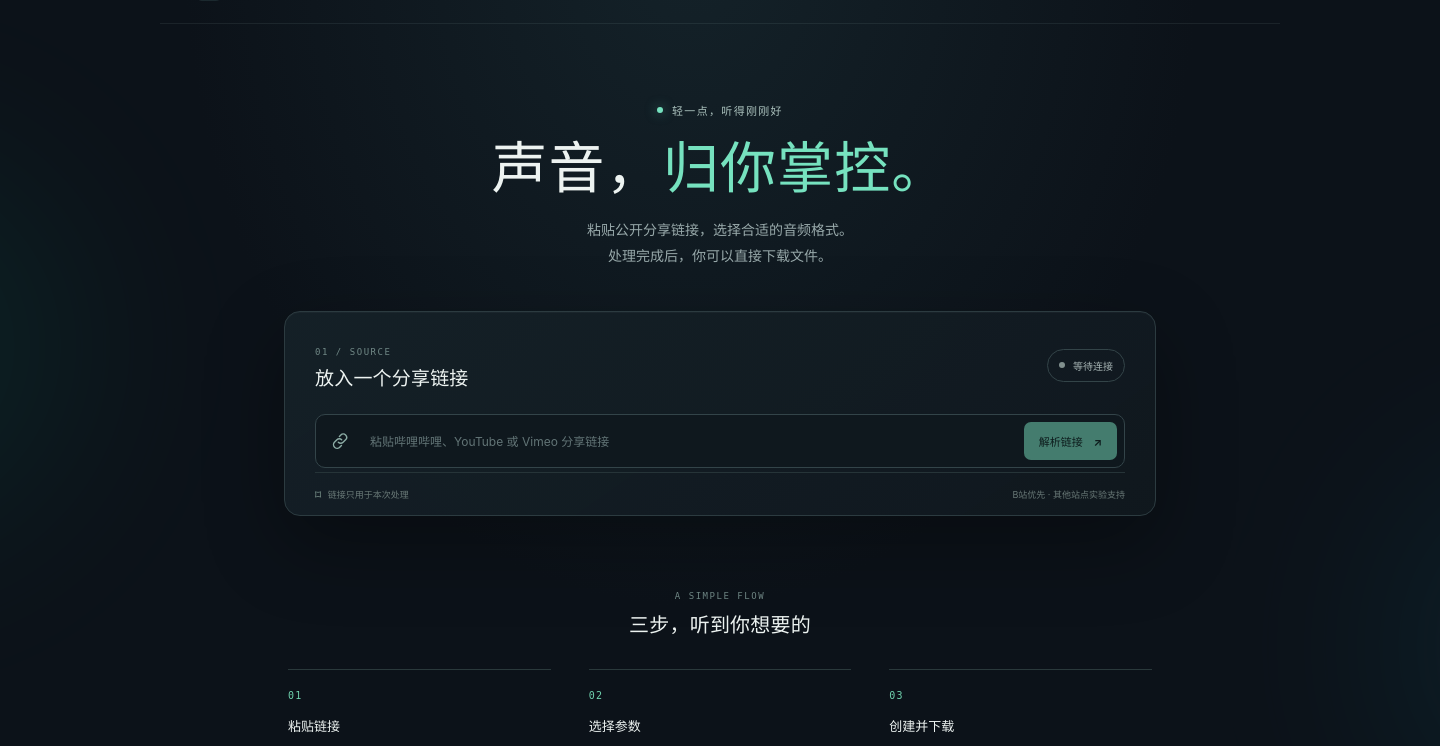
Scenario: AudioDock task flow › does not manufacture a percentage when the backend reports unknown progress
Type "https://youtu.be/abc" into the field named "分享链接或文字" at (690, 441), box [363,434,1018,449]
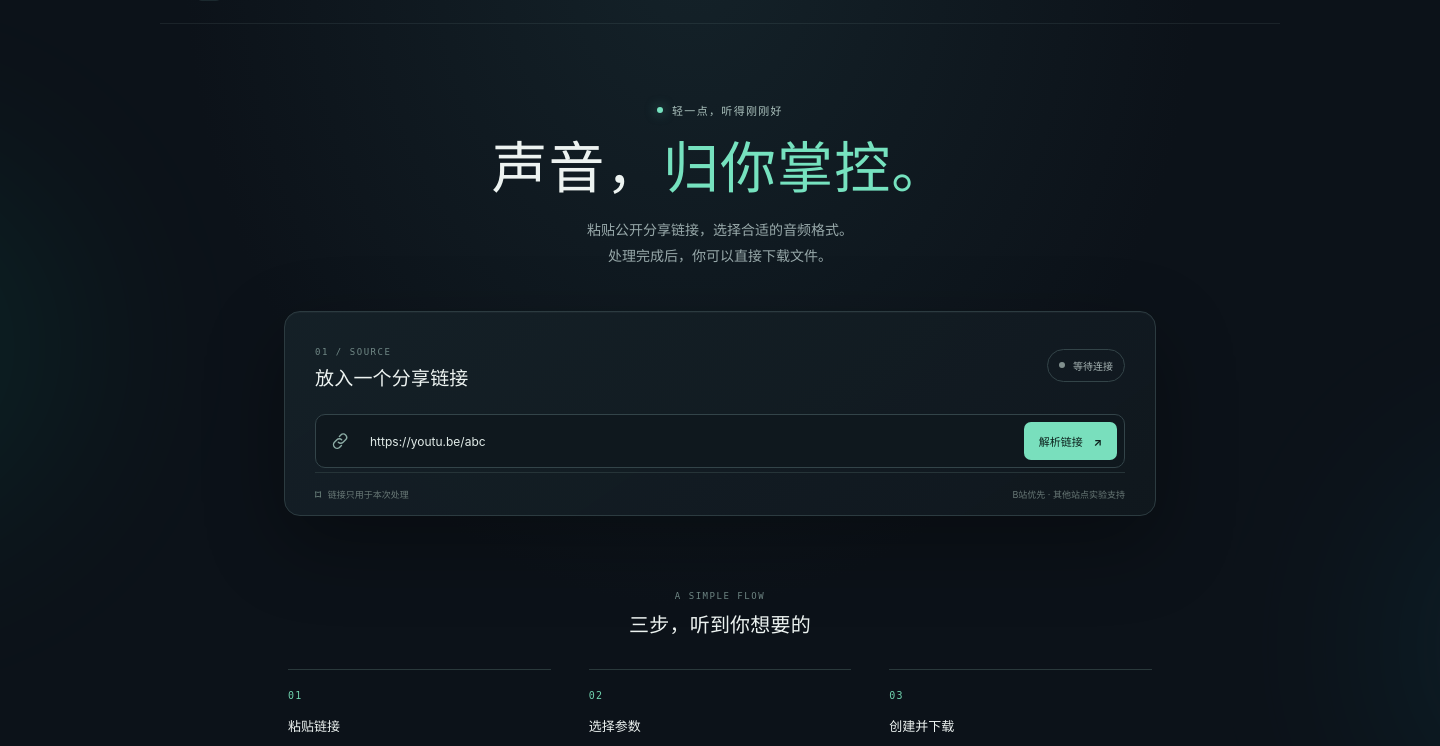
Click the button "解析链接 ↗" at (1070, 441), box [1024,422,1117,460]
(page scrolled)
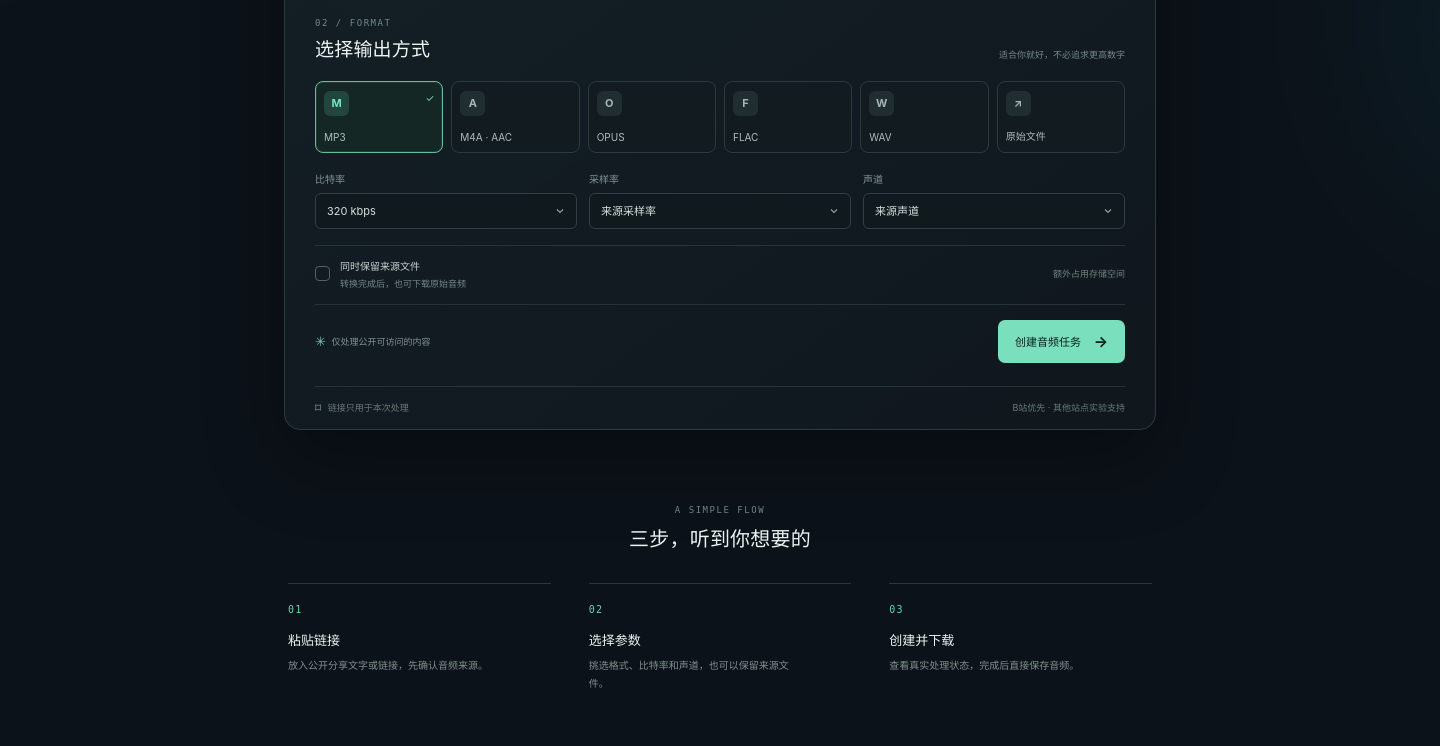
Click the button "创建音频任务 →" at (1062, 342), box [998,320,1125,363]
(page scrolled)
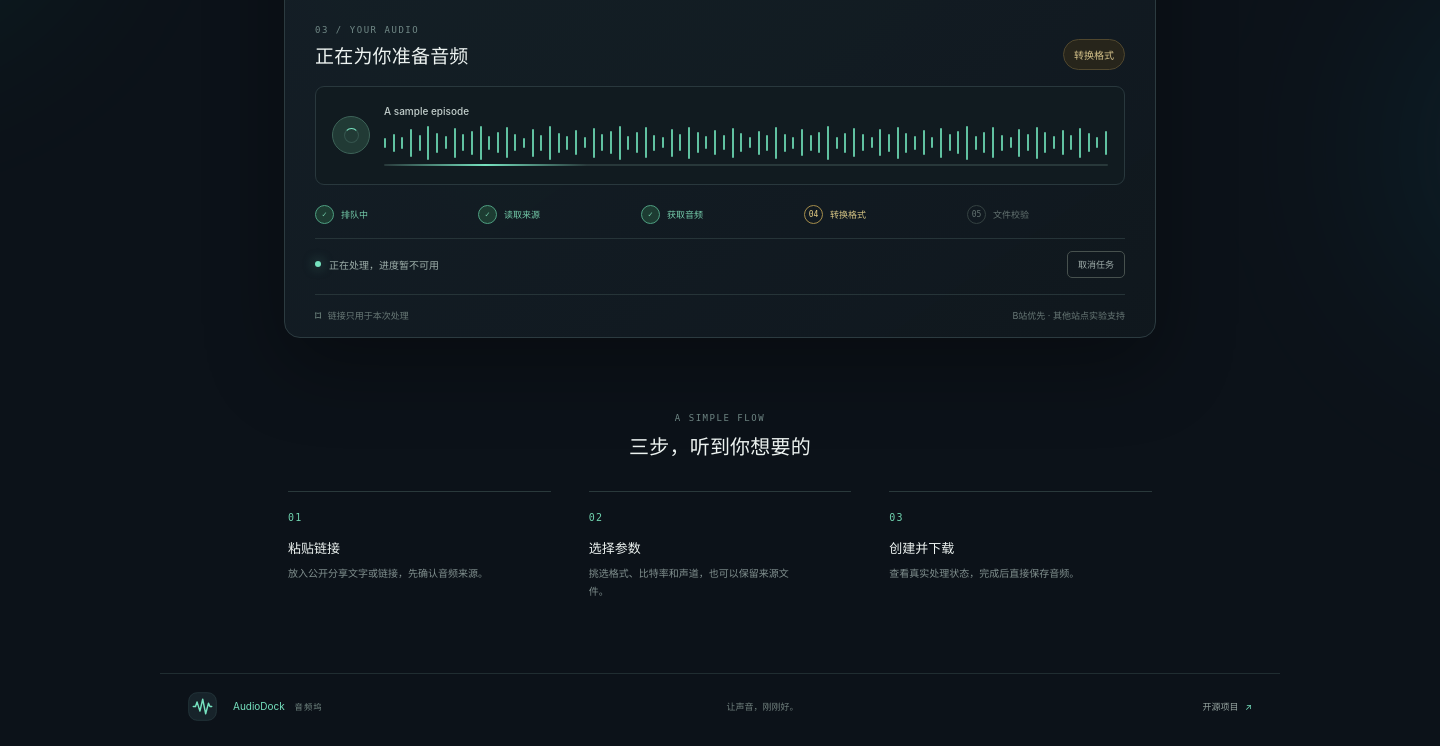
Result: the heading "正在为你准备音频" is shown at [315,45,468,70]
Result: the text "正在处理，进度暂不可用" is shown at [329,259,439,271]
